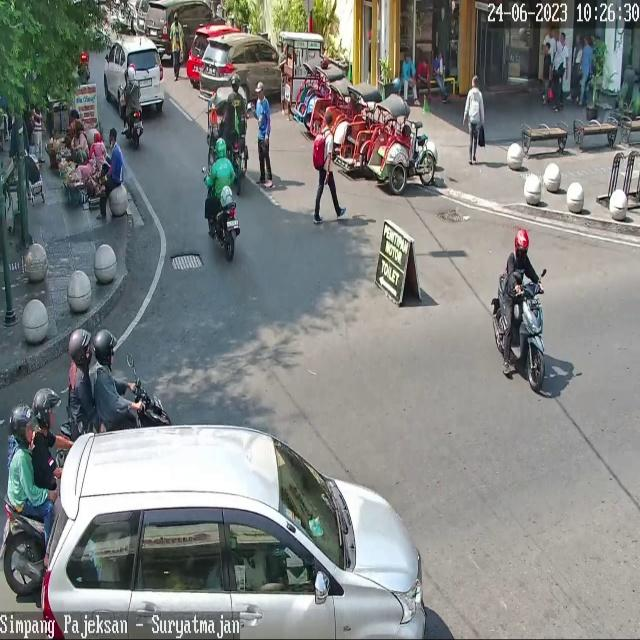bus: (494, 271, 547, 391), (1, 492, 46, 594), (130, 378, 172, 427), (213, 199, 239, 260), (125, 106, 144, 148)
motorcycle: (40, 424, 424, 640), (201, 34, 281, 104), (104, 34, 164, 112), (144, 0, 227, 54), (186, 24, 242, 82)
